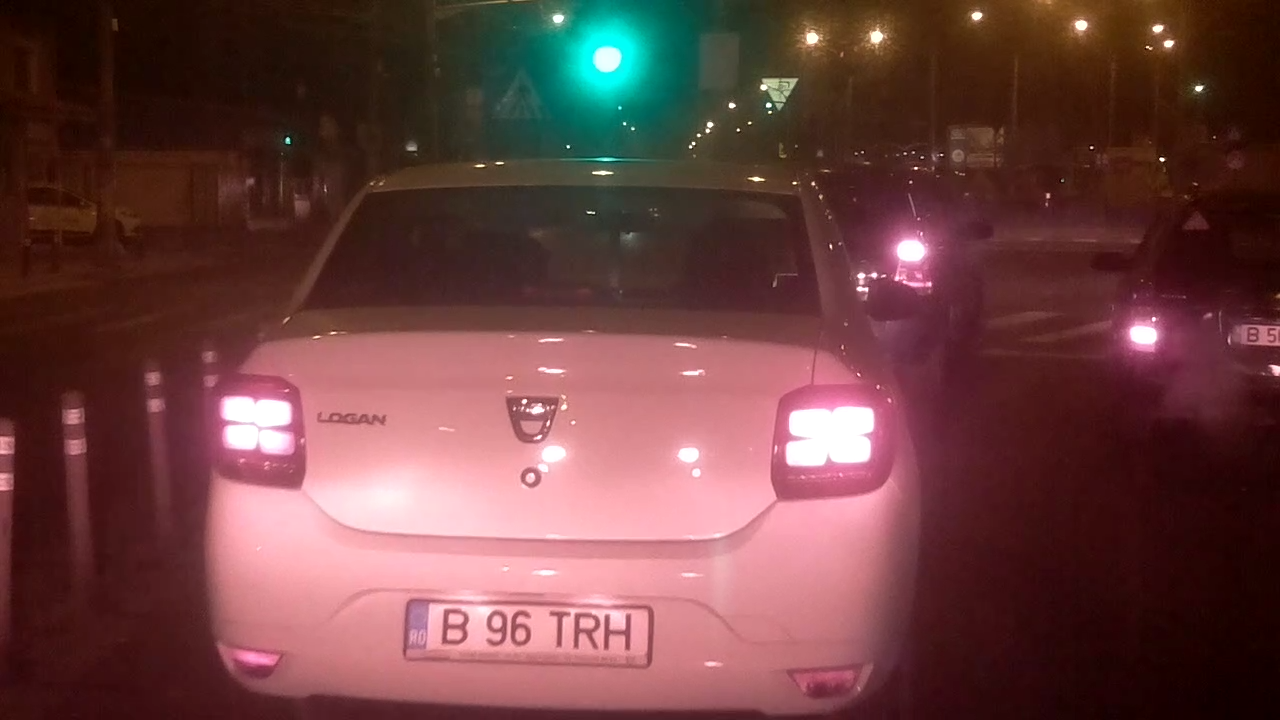license-plate: (398, 593, 661, 673)
